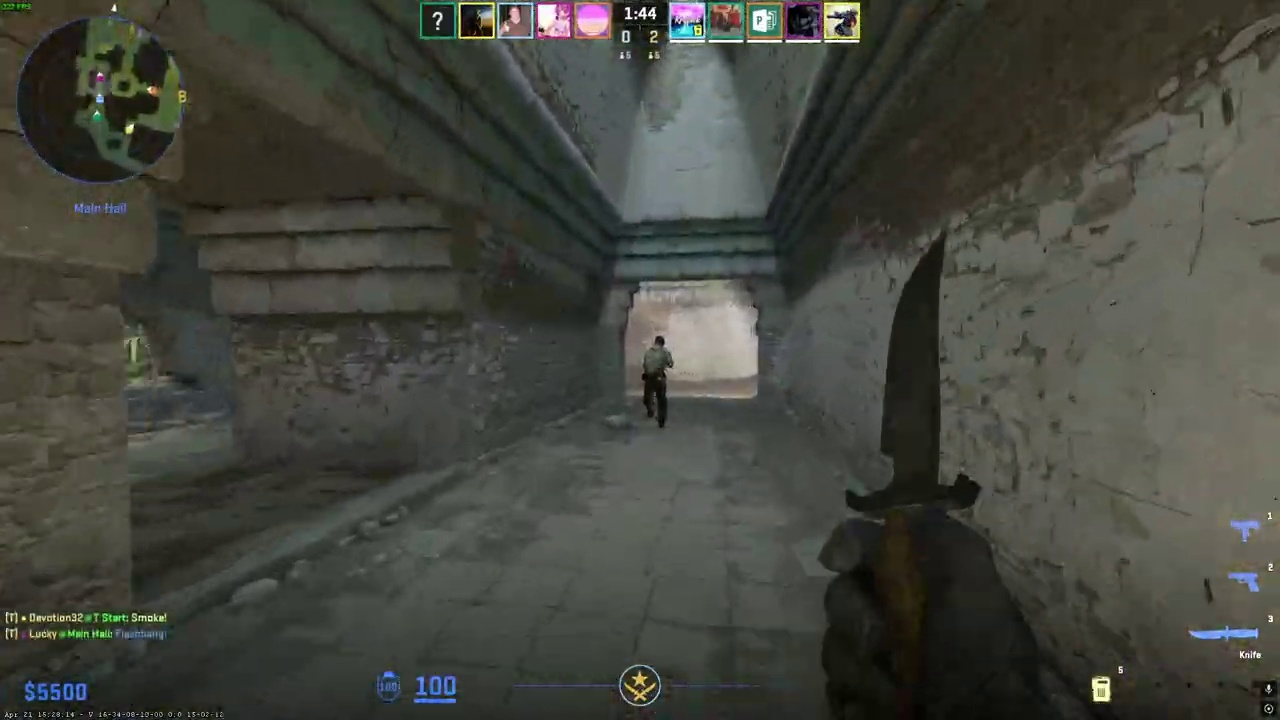Terrorist: (641, 336, 674, 428)
